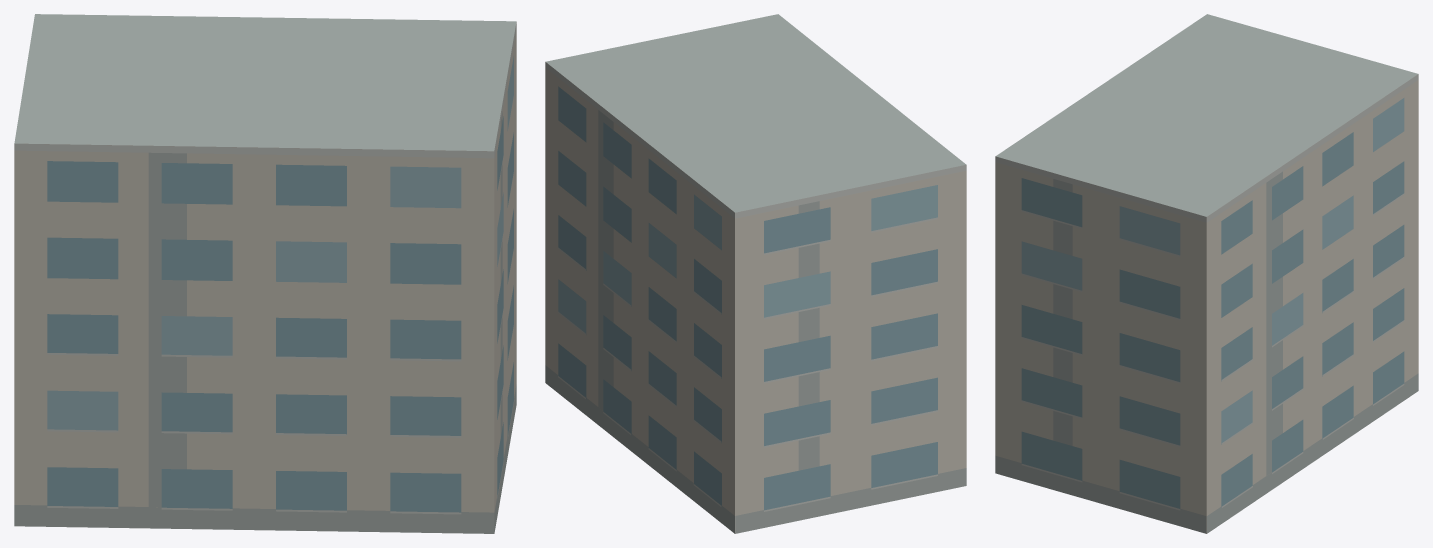
Rendered from survey-upis-32893675.glb.
3 renders of one model, left to right at view 1: azimuth 30°, elevation 25°; view 2: azimuth 150°, elevation 25°; view 3: azimuth 270°, elevation 25°, orthographic. The views are drawn at different scales.
Parts seen in each view (by area): view 1: survey-upis-32893675.tmp; view 2: survey-upis-32893675.tmp; view 3: survey-upis-32893675.tmp.
Part boxes in pixels (x1=…): survey-upis-32893675.tmp: x1=14, y1=14, x2=516, y2=533; survey-upis-32893675.tmp: x1=545, y1=14, x2=966, y2=533; survey-upis-32893675.tmp: x1=995, y1=14, x2=1418, y2=533.
Size of the model in its own units: 18.13 by 13.2 by 15.98.
